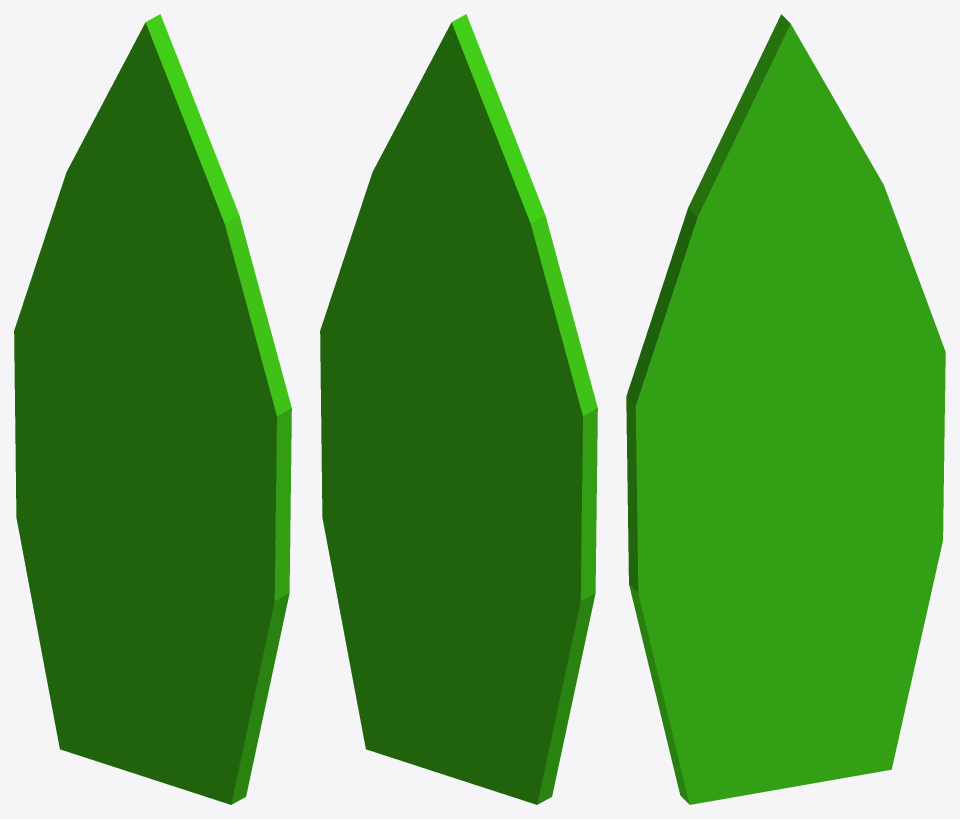
Rendered from Rigged Grass Export 96.fbx.
The picture shows the model from 3 angles, left to right: view 1: azimuth 30°, elevation 25°; view 2: azimuth 210°, elevation 25°; view 3: azimuth 270°, elevation 25°; orthographic projection.
Visible parts, largest first — view 1: Grass 2 Right Right 6; view 2: Grass 2 Right Right 6; view 3: Grass 2 Right Right 6.
Boxes of the visible parts, <box> form: Grass 2 Right Right 6: <box>14,14,291,804</box>; Grass 2 Right Right 6: <box>320,14,597,804</box>; Grass 2 Right Right 6: <box>626,14,945,804</box>.
Bounding box in the file's own units: 63.18 × 353 × 134.
